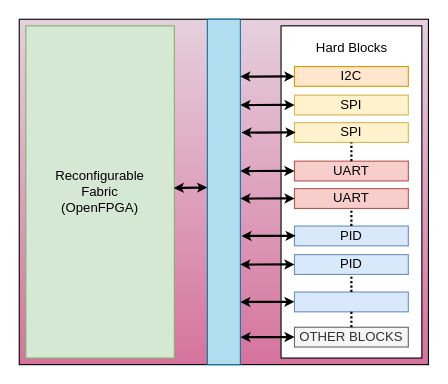
Image size: 448x384. Some labels were removed from this diagram. The centre of each missing label's shape, as x and y in pixels:
"HIGH SPEED BUS (e.g AXI)" belongs at point 223,191.
"PWM" belongs at point 350,301.
